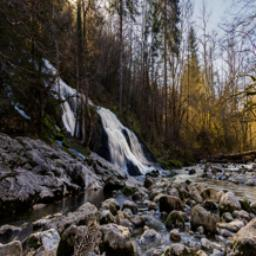Sparrow: (68, 222, 97, 256)
